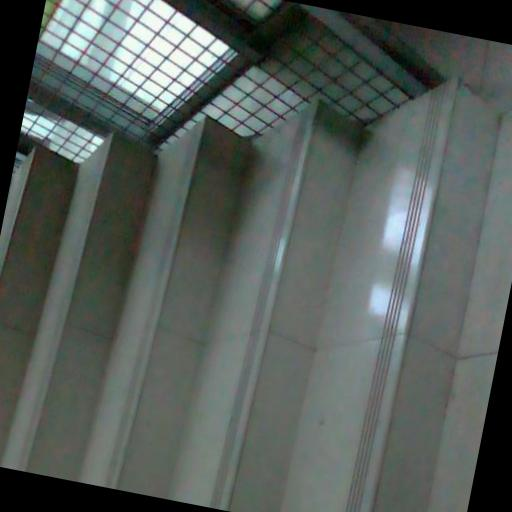stairs: (0, 81, 511, 511)
